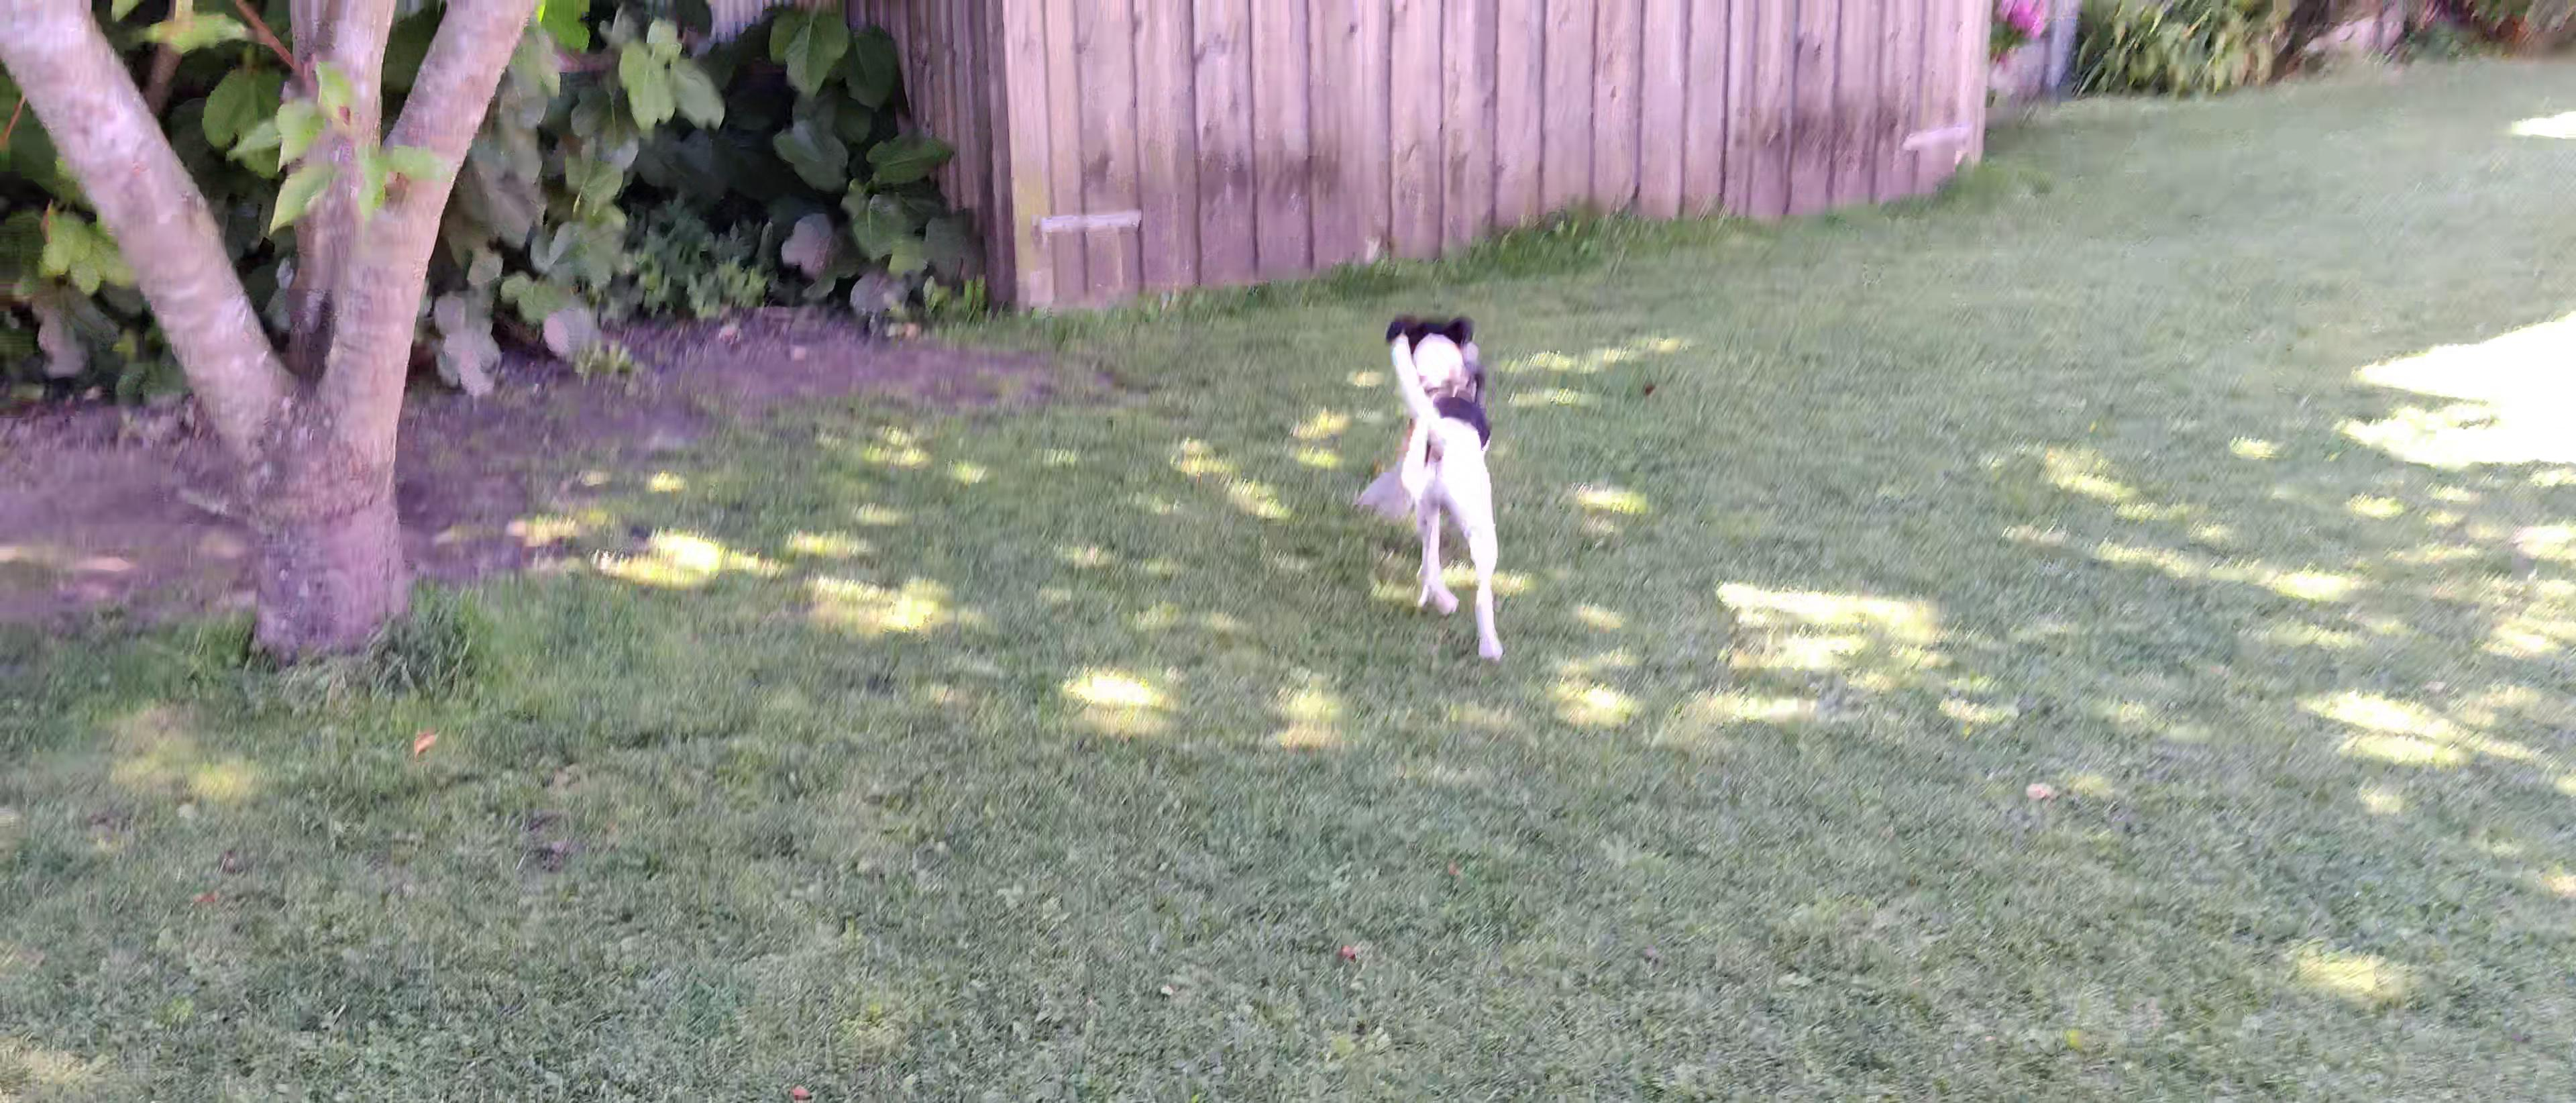Dog: (1382, 312, 1506, 666)
